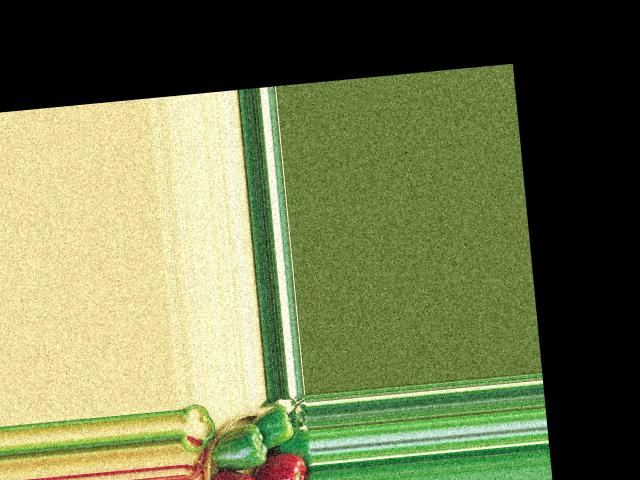bell_pepper: (210, 469, 266, 480)
